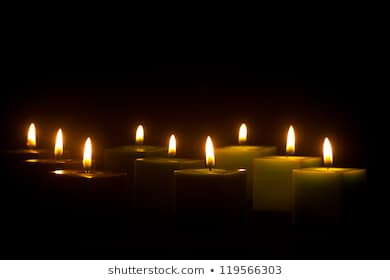Fire: (202, 133, 219, 169), (81, 135, 97, 168), (51, 126, 66, 158), (283, 123, 298, 155), (322, 132, 337, 163), (164, 131, 181, 155), (235, 121, 250, 142), (25, 120, 37, 146), (132, 123, 145, 142)
